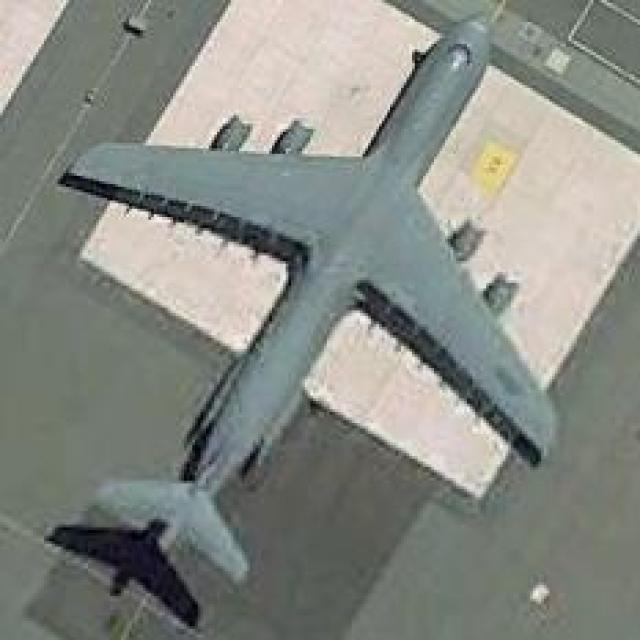C-5_TopDown: (66, 8, 562, 594)
